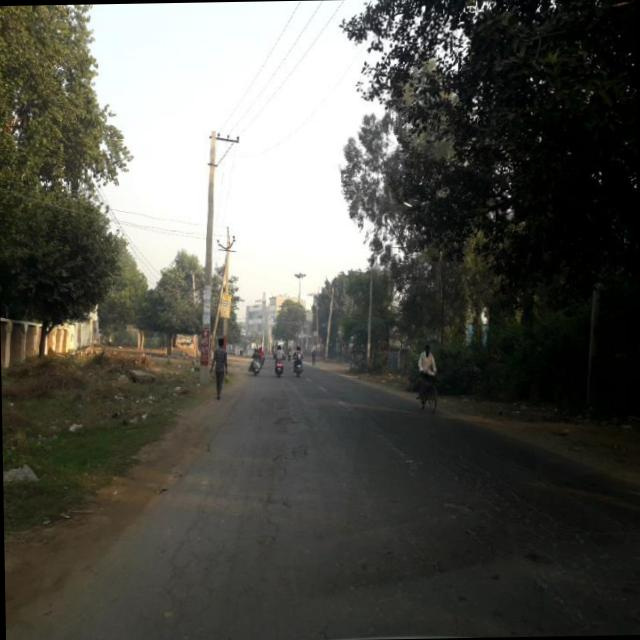crack: (425, 436, 612, 612), (140, 466, 308, 640)
